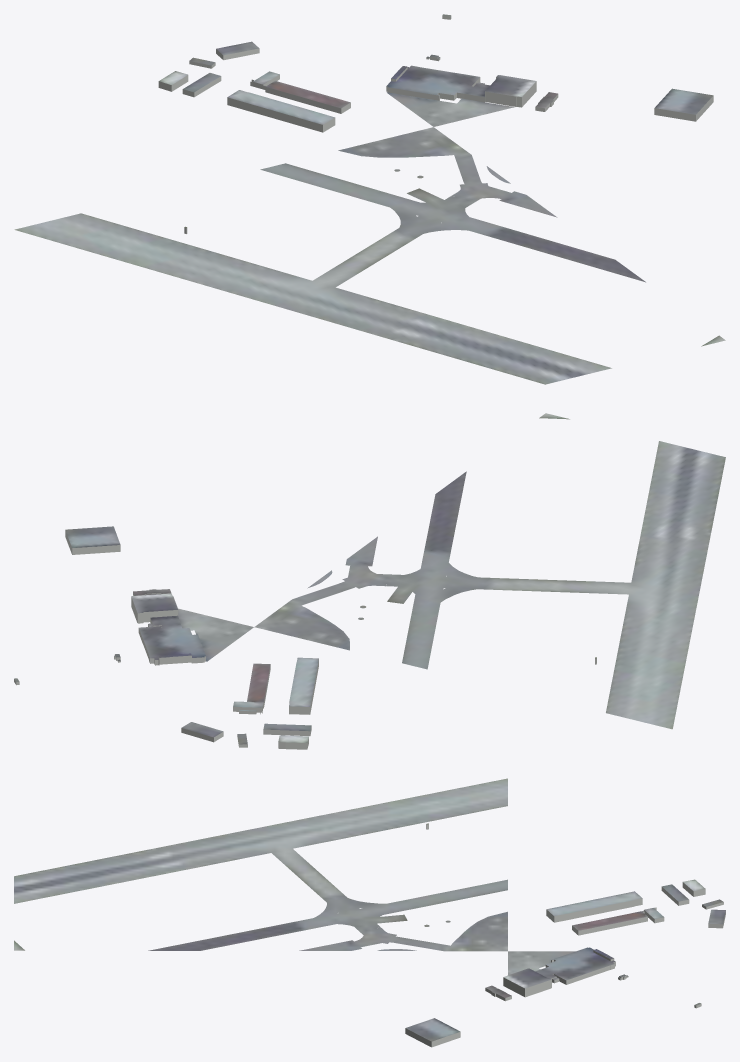
Rendered from LFSB_0_0.glb.
The picture shows the model from 3 angles, top to bottom: view 1: azimuth 30°, elevation 25°; view 2: azimuth 150°, elevation 25°; view 3: azimuth 270°, elevation 25°; orthographic projection. The views are drawn at different scales.
Visible parts, largest first — view 1: pavement_LFSB_pavement_5212_2544, building_BATIMENT0000000228170238, building_BATIMENT0000000228170194, pavement_LFSB_pavement_5213_2545, building_BATIMENT0000000228170182, building_BATIMENT0000000228170241, building_BATIMENT0000000228170203; view 2: pavement_LFSB_pavement_5212_2544, building_BATIMENT0000000228170238, pavement_LFSB_pavement_5213_2545, building_BATIMENT0000000228170182, building_BATIMENT0000000228170194, building_BATIMENT0000000228170241, building_BATIMENT0000000228170203, building_BATIMENT0000000228170207; view 3: pavement_LFSB_pavement_5212_2544, building_BATIMENT0000000228170238, building_BATIMENT0000000228170194, building_BATIMENT0000000228170182, building_BATIMENT0000000228170241, pavement_LFSB_pavement_5213_2545, building_BATIMENT0000000228170203.
Boxes of the visible parts, bbox=[...] form: pavement_LFSB_pavement_5212_2544: bbox=[14, 127, 725, 384]; building_BATIMENT0000000228170238: bbox=[386, 65, 489, 102]; building_BATIMENT0000000228170194: bbox=[227, 90, 335, 132]; pavement_LFSB_pavement_5213_2545: bbox=[387, 92, 514, 126]; building_BATIMENT0000000228170182: bbox=[654, 88, 713, 121]; building_BATIMENT0000000228170241: bbox=[485, 75, 536, 107]; building_BATIMENT0000000228170203: bbox=[265, 80, 350, 113]; pavement_LFSB_pavement_5212_2544: bbox=[254, 413, 725, 729]; building_BATIMENT0000000228170238: bbox=[138, 615, 205, 665]; pavement_LFSB_pavement_5213_2545: bbox=[178, 608, 253, 661]; building_BATIMENT0000000228170182: bbox=[65, 526, 120, 554]; building_BATIMENT0000000228170194: bbox=[289, 657, 318, 714]; building_BATIMENT0000000228170241: bbox=[131, 593, 178, 623]; building_BATIMENT0000000228170203: bbox=[247, 663, 270, 708]; building_BATIMENT0000000228170207: bbox=[263, 723, 311, 736]; pavement_LFSB_pavement_5212_2544: bbox=[14, 778, 507, 951]; building_BATIMENT0000000228170238: bbox=[535, 947, 615, 984]; building_BATIMENT0000000228170194: bbox=[546, 891, 642, 922]; building_BATIMENT0000000228170182: bbox=[405, 1018, 460, 1047]; building_BATIMENT0000000228170241: bbox=[503, 968, 551, 997]; pavement_LFSB_pavement_5213_2545: bbox=[508, 951, 575, 975]; building_BATIMENT0000000228170203: bbox=[572, 911, 647, 935].
Size of the model in its own units: 646 by 14.7 by 721.
3 materials, 2 textured.
